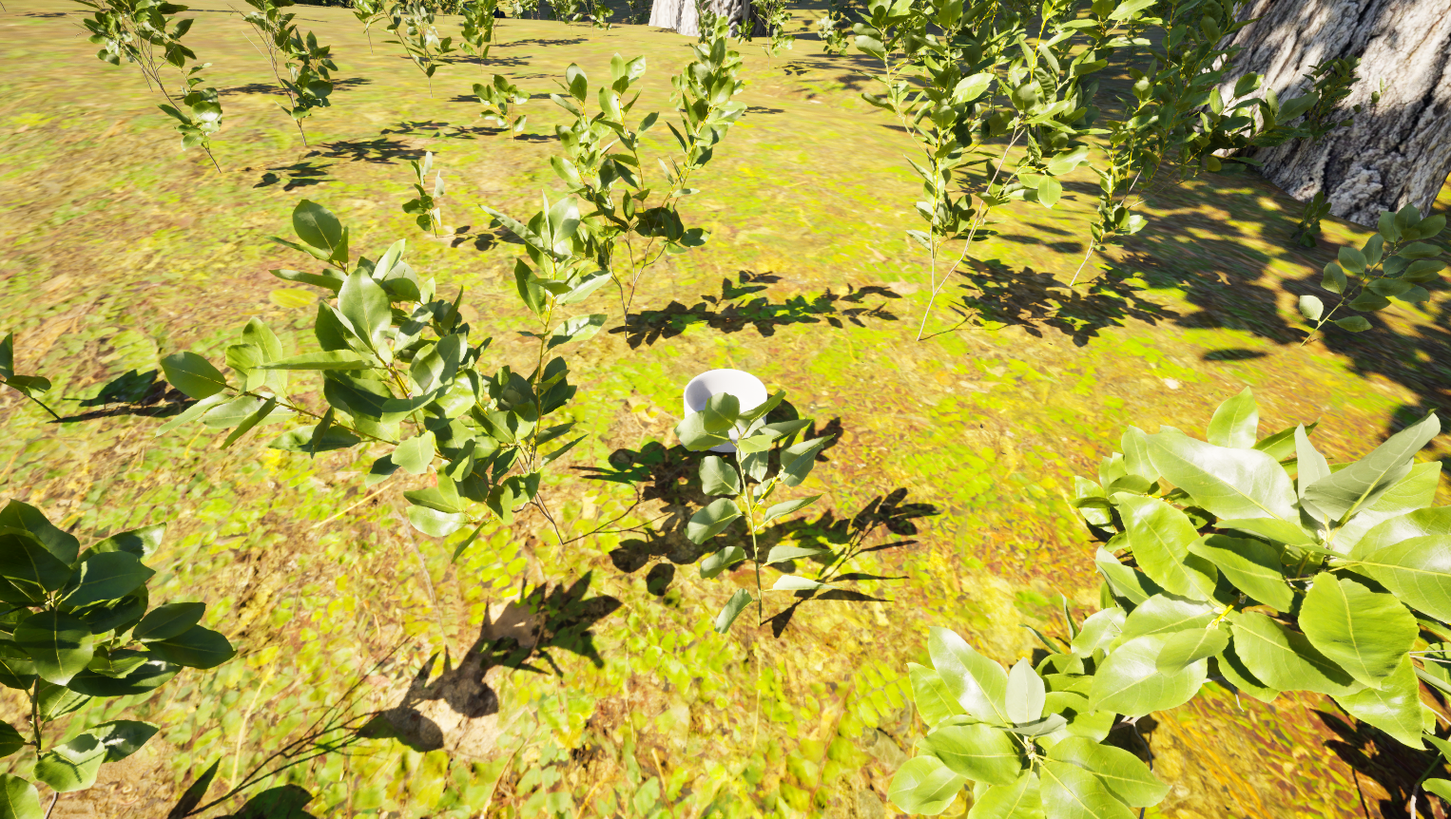Teacup: (663, 363, 780, 463)
